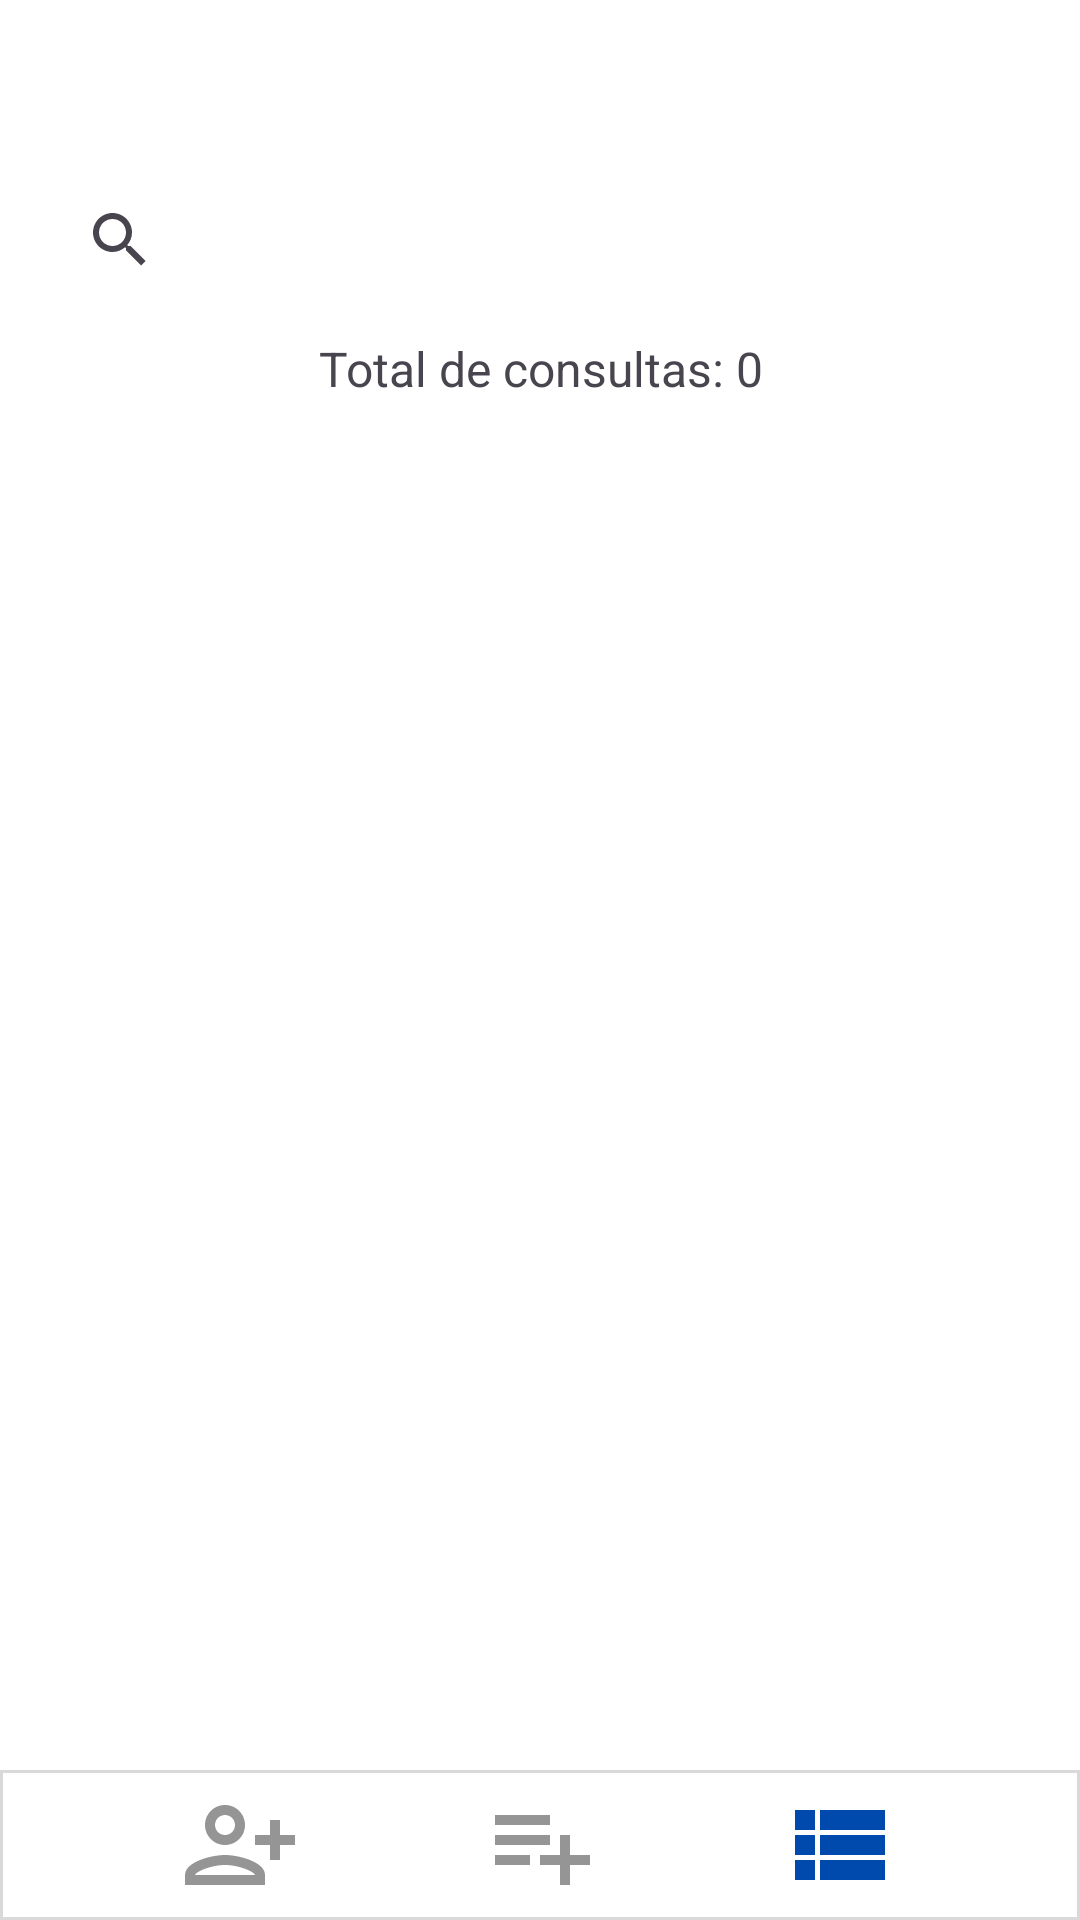

Locate icon controls on the screen. Image size 1080 x 1920, boxes as Rect(x1, y1, x2, y2).
person add two: Rect(185, 1805, 295, 1885)
playlist add two: Rect(495, 1815, 590, 1885)
view list: Rect(795, 1810, 885, 1880)
